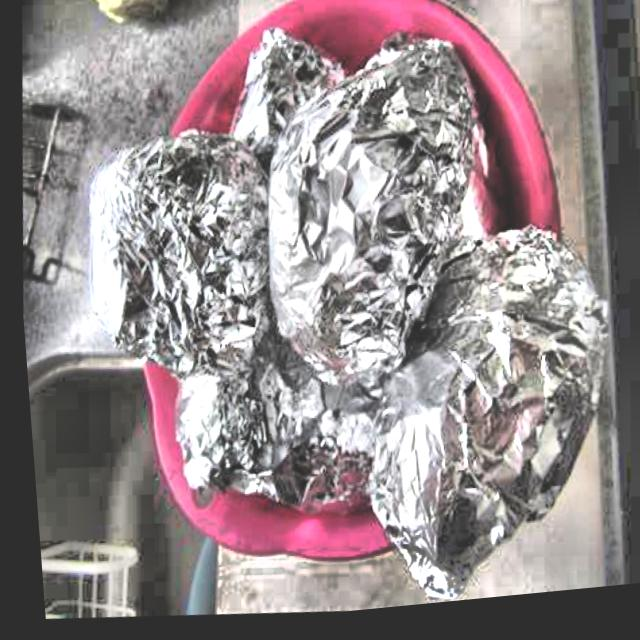Foil: (30, 0, 633, 638)
